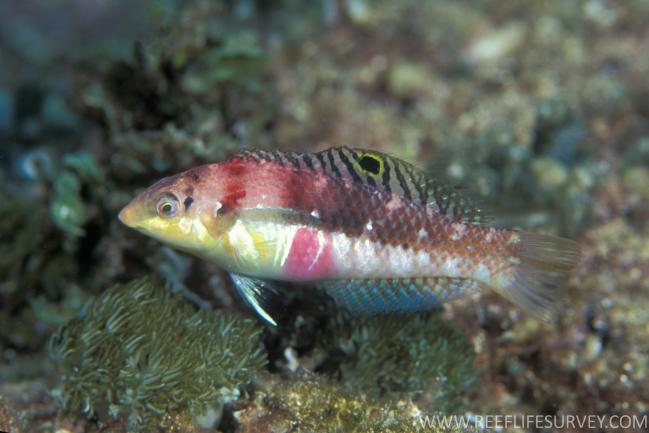fish: (118, 145, 583, 327)
